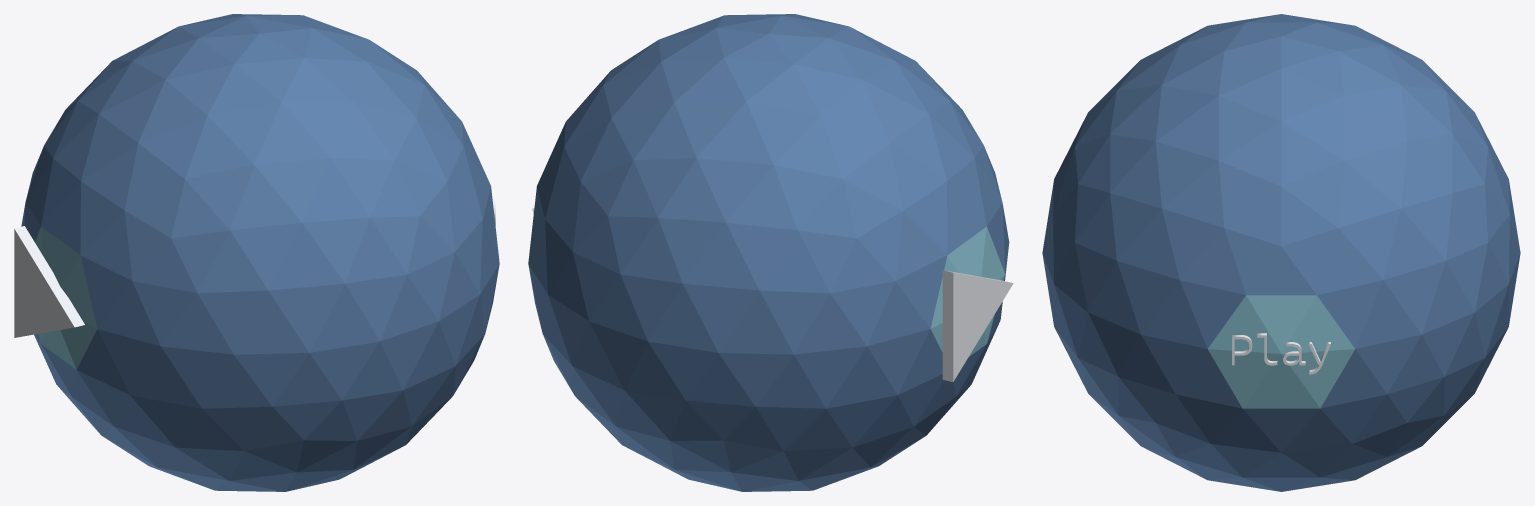
The model's file is PlayPlanet.fbx.
The picture shows the model from 3 angles, left to right: view 1: azimuth 30°, elevation 25°; view 2: azimuth 150°, elevation 25°; view 3: azimuth 270°, elevation 25°; orthographic projection.
Visible parts, largest first — view 1: Icosphere, Cube; view 2: Icosphere, Cube; view 3: Icosphere, Text.
Boxes of the visible parts, x1,y1,x2,y2 form: Icosphere: [21, 14, 499, 491]; Cube: [14, 226, 84, 337]; Icosphere: [528, 14, 1009, 491]; Cube: [942, 270, 1013, 381]; Icosphere: [1042, 14, 1520, 491]; Text: [1232, 333, 1330, 374].
Size of the model in its own units: 20.35 by 20 by 20.
